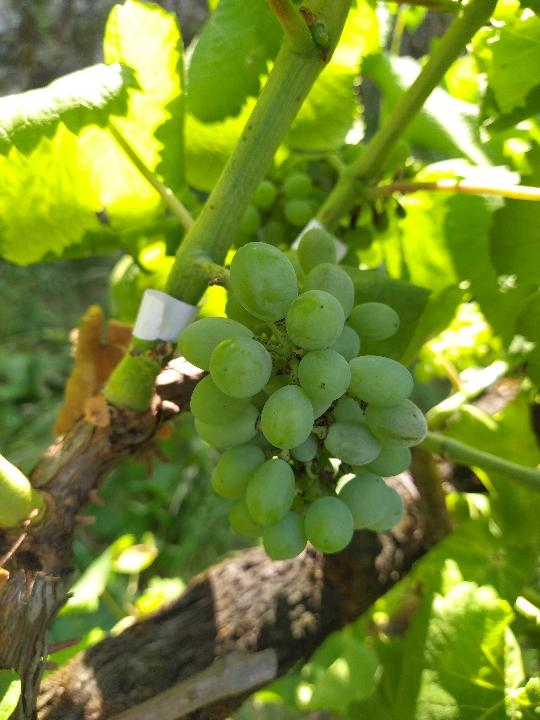grape: (172, 230, 431, 565)
